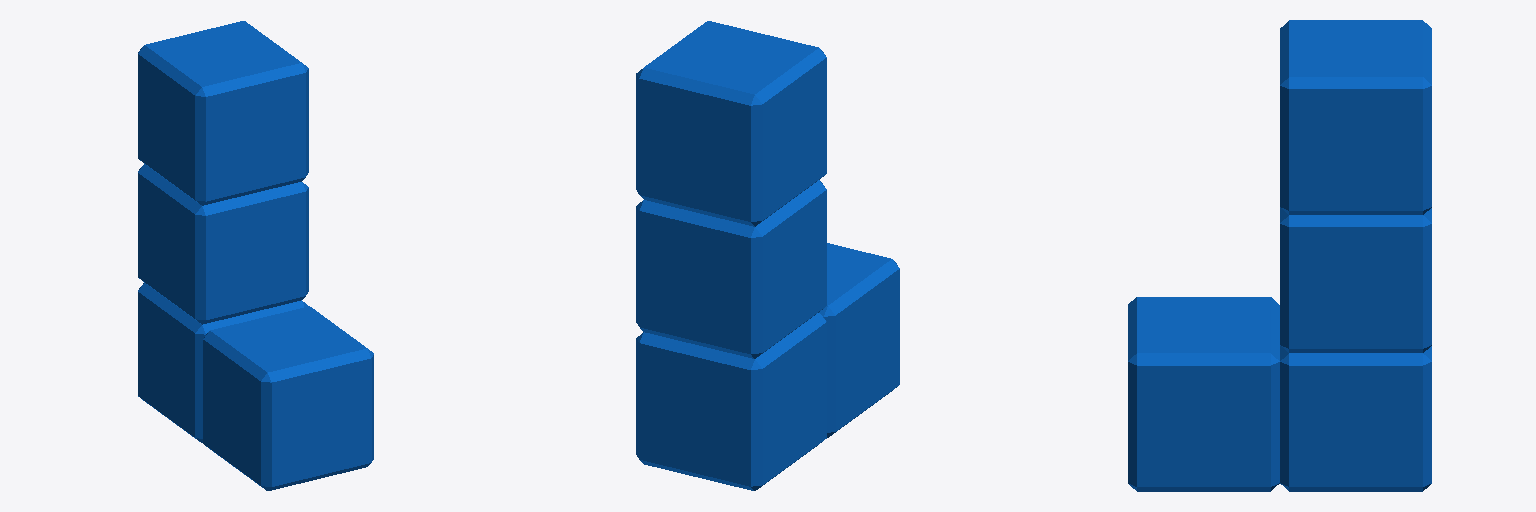
--- What the picture shows (computed from the rendered views, not written in the file) ---
Views: 3 orthographic renders of the robot side by side, from view 1: azimuth 30°, elevation 25°; view 2: azimuth 150°, elevation 25°; view 3: azimuth 270°, elevation 25°.
Robot: obj_2 — 1 links, 0 joints (none); root link obj_2_link; default pose: every joint at zero.
Visible links, largest first — view 1: obj_2_link; view 2: obj_2_link; view 3: obj_2_link.
Boxes of the visible links, x1,y1,x2,y2 form: obj_2_link: [138, 21, 373, 490]; obj_2_link: [636, 21, 899, 490]; obj_2_link: [1128, 20, 1431, 491].
Size in the robot's own frame: 0.125 by 0.25 by 0.375 metres.
Meshes: 1 distinct files referenced, 1 mesh visuals loaded (1 OBJ).

robot.urdf — obj_2:
<robot name="obj_2" version="1.0">
  <link name="obj_2_link">
    <collision name="obj_2-collision.001">
      <origin rpy="-3.14159 0.00000 1.57080" xyz="-0.47734 0.45206 0.06416"/>
      <geometry>
        <mesh filename="../meshes/obj/obj_2-collision.001.obj" scale="1.00000 1.00000 1.00000"/>
      </geometry>
    </collision>
    <collision name="obj_2-collision.002">
      <origin rpy="-1.57080 -0.00000 2.35619" xyz="-0.53609 0.39331 0.06416"/>
      <geometry>
        <mesh filename="../meshes/obj/obj_2-collision.002.obj" scale="1.00000 1.00000 1.00000"/>
      </geometry>
    </collision>
    <collision name="obj_2-collision.003">
      <origin rpy="2.35619 -1.57080 0.00000" xyz="-0.41859 0.39331 0.06416"/>
      <geometry>
        <mesh filename="../meshes/obj/obj_2-collision.003.obj" scale="1.00000 1.00000 1.00000"/>
      </geometry>
    </collision>
    <collision name="obj_2-collision.004">
      <origin rpy="1.57080 -0.00000 2.35619" xyz="-0.41859 0.51081 0.06416"/>
      <geometry>
        <mesh filename="../meshes/obj/obj_2-collision.004.obj" scale="1.00000 1.00000 1.00000"/>
      </geometry>
    </collision>
    <collision name="obj_2-collision.005">
      <origin rpy="-2.35619 1.57080 0.00000" xyz="-0.53609 0.51081 0.06416"/>
      <geometry>
        <mesh filename="../meshes/obj/obj_2-collision.005.obj" scale="1.00000 1.00000 1.00000"/>
      </geometry>
    </collision>
    <collision name="obj_2-collision.006">
      <origin rpy="-0.78540 -0.00000 1.57080" xyz="-0.53609 0.45206 0.12291"/>
      <geometry>
        <mesh filename="../meshes/obj/obj_2-collision.006.obj" scale="1.00000 1.00000 1.00000"/>
      </geometry>
    </collision>
    <collision name="obj_2-collision.007">
      <origin rpy="2.35619 -0.00000 -1.57080" xyz="-0.53609 0.45206 0.00541"/>
      <geometry>
        <mesh filename="../meshes/obj/obj_2-collision.007.obj" scale="1.00000 1.00000 1.00000"/>
      </geometry>
    </collision>
    <collision name="obj_2-collision.008">
      <origin rpy="0.00000 -0.78540 1.57080" xyz="-0.47734 0.39331 0.12291"/>
      <geometry>
        <mesh filename="../meshes/obj/obj_2-collision.008.obj" scale="1.00000 1.00000 1.00000"/>
      </geometry>
    </collision>
    <collision name="obj_2-collision.009">
      <origin rpy="3.14159 -0.78540 -1.57080" xyz="-0.47734 0.39331 0.00541"/>
      <geometry>
        <mesh filename="../meshes/obj/obj_2-collision.009.obj" scale="1.00000 1.00000 1.00000"/>
      </geometry>
    </collision>
    <collision name="obj_2-collision.010">
      <origin rpy="-0.78540 -0.00000 -1.57080" xyz="-0.41859 0.45206 0.12291"/>
      <geometry>
        <mesh filename="../meshes/obj/obj_2-collision.010.obj" scale="1.00000 1.00000 1.00000"/>
      </geometry>
    </collision>
    <collision name="obj_2-collision.011">
      <origin rpy="-2.35619 0.00000 -1.57080" xyz="-0.41859 0.45206 0.00541"/>
      <geometry>
        <mesh filename="../meshes/obj/obj_2-collision.011.obj" scale="1.00000 1.00000 1.00000"/>
      </geometry>
    </collision>
    <collision name="obj_2-collision.012">
      <origin rpy="0.00000 0.78540 1.57080" xyz="-0.47734 0.51081 0.12291"/>
      <geometry>
        <mesh filename="../meshes/obj/obj_2-collision.012.obj" scale="1.00000 1.00000 1.00000"/>
      </geometry>
    </collision>
    <collision name="obj_2-collision.013">
      <origin rpy="3.14159 0.78540 -1.57080" xyz="-0.47734 0.51081 0.00541"/>
      <geometry>
        <mesh filename="../meshes/obj/obj_2-collision.013.obj" scale="1.00000 1.00000 1.00000"/>
      </geometry>
    </collision>
    <collision name="obj_2-collision.014">
      <origin rpy="-1.57080 -0.00000 3.14159" xyz="-0.47734 0.38956 0.06416"/>
      <geometry>
        <mesh filename="../meshes/obj/obj_2-collision.014.obj" scale="1.00000 1.00000 1.00000"/>
      </geometry>
    </collision>
    <collision name="obj_2-collision.015">
      <origin rpy="3.14159 -1.57080 0.00000" xyz="-0.41484 0.45206 0.06416"/>
      <geometry>
        <mesh filename="../meshes/obj/obj_2-collision.015.obj" scale="1.00000 1.00000 1.00000"/>
      </geometry>
    </collision>
    <collision name="obj_2-collision.016">
      <origin rpy="-3.14159 1.57080 0.00000" xyz="-0.53984 0.45206 0.06416"/>
      <geometry>
        <mesh filename="../meshes/obj/obj_2-collision.016.obj" scale="1.00000 1.00000 1.00000"/>
      </geometry>
    </collision>
    <collision name="obj_2-collision.017">
      <origin rpy="-0.78540 -0.00000 1.57080" xyz="-0.53609 0.57706 0.12291"/>
      <geometry>
        <mesh filename="../meshes/obj/obj_2-collision.017.obj" scale="1.00000 1.00000 1.00000"/>
      </geometry>
    </collision>
    <collision name="obj_2-collision.018">
      <origin rpy="-3.14159 1.57080 0.00000" xyz="-0.53984 0.57706 0.06416"/>
      <geometry>
        <mesh filename="../meshes/obj/obj_2-collision.018.obj" scale="1.00000 1.00000 1.00000"/>
      </geometry>
    </collision>
    <collision name="obj_2-collision.019">
      <origin rpy="-1.57080 -0.00000 2.35619" xyz="-0.53609 0.51831 0.06416"/>
      <geometry>
        <mesh filename="../meshes/obj/obj_2-collision.019.obj" scale="1.00000 1.00000 1.00000"/>
      </geometry>
    </collision>
    <collision name="obj_2-collision.020">
      <origin rpy="2.35619 -0.00000 -1.57080" xyz="-0.53609 0.57706 0.00541"/>
      <geometry>
        <mesh filename="../meshes/obj/obj_2-collision.020.obj" scale="1.00000 1.00000 1.00000"/>
      </geometry>
    </collision>
    <collision name="obj_2-collision.021">
      <origin rpy="-2.35619 1.57080 0.00000" xyz="-0.53609 0.63581 0.06416"/>
      <geometry>
        <mesh filename="../meshes/obj/obj_2-collision.021.obj" scale="1.00000 1.00000 1.00000"/>
      </geometry>
    </collision>
    <collision name="obj_2-collision.022">
      <origin rpy="0.00000 0.78540 1.57080" xyz="-0.47734 0.63581 0.12291"/>
      <geometry>
        <mesh filename="../meshes/obj/obj_2-collision.022.obj" scale="1.00000 1.00000 1.00000"/>
      </geometry>
    </collision>
    <collision name="obj_2-collision.023">
      <origin rpy="1.57080 -0.00000 3.14159" xyz="-0.47734 0.63956 0.06416"/>
      <geometry>
        <mesh filename="../meshes/obj/obj_2-collision.023.obj" scale="1.00000 1.00000 1.00000"/>
      </geometry>
    </collision>
    <collision name="obj_2-collision.024">
      <origin rpy="3.14159 0.78540 -1.57080" xyz="-0.47734 0.63581 0.00541"/>
      <geometry>
        <mesh filename="../meshes/obj/obj_2-collision.024.obj" scale="1.00000 1.00000 1.00000"/>
      </geometry>
    </collision>
    <collision name="obj_2-collision.025">
      <origin rpy="1.57080 -0.00000 2.35619" xyz="-0.41859 0.63581 0.06416"/>
      <geometry>
        <mesh filename="../meshes/obj/obj_2-collision.025.obj" scale="1.00000 1.00000 1.00000"/>
      </geometry>
    </collision>
    <collision name="obj_2-collision.026">
      <origin rpy="0.78540 0.00000 1.57080" xyz="-0.41859 0.57706 0.12291"/>
      <geometry>
        <mesh filename="../meshes/obj/obj_2-collision.026.obj" scale="1.00000 1.00000 1.00000"/>
      </geometry>
    </collision>
    <collision name="obj_2-collision.027">
      <origin rpy="3.14159 -1.57080 0.00000" xyz="-0.41484 0.57706 0.06416"/>
      <geometry>
        <mesh filename="../meshes/obj/obj_2-collision.027.obj" scale="1.00000 1.00000 1.00000"/>
      </geometry>
    </collision>
    <collision name="obj_2-collision.028">
      <origin rpy="-2.35619 0.00000 -1.57080" xyz="-0.41859 0.57706 0.00541"/>
      <geometry>
        <mesh filename="../meshes/obj/obj_2-collision.028.obj" scale="1.00000 1.00000 1.00000"/>
      </geometry>
    </collision>
    <collision name="obj_2-collision.029">
      <origin rpy="2.35619 -1.57080 0.00000" xyz="-0.41859 0.51831 0.06416"/>
      <geometry>
        <mesh filename="../meshes/obj/obj_2-collision.029.obj" scale="1.00000 1.00000 1.00000"/>
      </geometry>
    </collision>
    <collision name="obj_2-collision.030">
      <origin rpy="3.14159 0.00000 -1.57080" xyz="-0.47734 0.57706 0.00166"/>
      <geometry>
        <mesh filename="../meshes/obj/obj_2-collision.030.obj" scale="1.00000 1.00000 1.00000"/>
      </geometry>
    </collision>
    <collision name="obj_2-collision.031">
      <origin rpy="3.14159 -0.78540 -1.57080" xyz="-0.47734 0.51831 0.00541"/>
      <geometry>
        <mesh filename="../meshes/obj/obj_2-collision.031.obj" scale="1.00000 1.00000 1.00000"/>
      </geometry>
    </collision>
    <collision name="obj_2-collision.032">
      <origin rpy="0.00000 -0.78540 1.57080" xyz="-0.47734 0.51831 0.12291"/>
      <geometry>
        <mesh filename="../meshes/obj/obj_2-collision.032.obj" scale="1.00000 1.00000 1.00000"/>
      </geometry>
    </collision>
    <collision name="obj_2-collision.033">
      <origin rpy="-3.14159 1.57080 0.00000" xyz="-0.53984 0.57706 0.18916"/>
      <geometry>
        <mesh filename="../meshes/obj/obj_2-collision.033.obj" scale="1.00000 1.00000 1.00000"/>
      </geometry>
    </collision>
    <collision name="obj_2-collision.034">
      <origin rpy="-1.57080 -0.00000 3.14159" xyz="-0.47734 0.51456 0.18916"/>
      <geometry>
        <mesh filename="../meshes/obj/obj_2-collision.034.obj" scale="1.00000 1.00000 1.00000"/>
      </geometry>
    </collision>
    <collision name="obj_2-collision.035">
      <origin rpy="3.14159 -1.57080 0.00000" xyz="-0.41484 0.57706 0.18916"/>
      <geometry>
        <mesh filename="../meshes/obj/obj_2-collision.035.obj" scale="1.00000 1.00000 1.00000"/>
      </geometry>
    </collision>
    <collision name="obj_2-collision.036">
      <origin rpy="1.57080 -0.00000 3.14159" xyz="-0.47734 0.63956 0.18916"/>
      <geometry>
        <mesh filename="../meshes/obj/obj_2-collision.036.obj" scale="1.00000 1.00000 1.00000"/>
      </geometry>
    </collision>
    <collision name="obj_2-collision.037">
      <origin rpy="-0.78540 -1.57080 0.00000" xyz="-0.53609 0.63581 0.18916"/>
      <geometry>
        <mesh filename="../meshes/obj/obj_2-collision.037.obj" scale="1.00000 1.00000 1.00000"/>
      </geometry>
    </collision>
    <collision name="obj_2-collision.038">
      <origin rpy="-0.78540 -0.00000 1.57080" xyz="-0.53609 0.57706 0.24791"/>
      <geometry>
        <mesh filename="../meshes/obj/obj_2-collision.038.obj" scale="1.00000 1.00000 1.00000"/>
      </geometry>
    </collision>
    <collision name="obj_2-collision.039">
      <origin rpy="0.00000 -0.78540 1.57080" xyz="-0.47734 0.51831 0.24791"/>
      <geometry>
        <mesh filename="../meshes/obj/obj_2-collision.039.obj" scale="1.00000 1.00000 1.00000"/>
      </geometry>
    </collision>
    <collision name="obj_2-collision.040">
      <origin rpy="0.78540 0.00000 1.57080" xyz="-0.41859 0.57706 0.24791"/>
      <geometry>
        <mesh filename="../meshes/obj/obj_2-collision.040.obj" scale="1.00000 1.00000 1.00000"/>
      </geometry>
    </collision>
    <collision name="obj_2-collision.041">
      <origin rpy="0.00000 0.78540 1.57080" xyz="-0.47734 0.63581 0.24791"/>
      <geometry>
        <mesh filename="../meshes/obj/obj_2-collision.041.obj" scale="1.00000 1.00000 1.00000"/>
      </geometry>
    </collision>
    <collision name="obj_2-collision.042">
      <origin rpy="-1.57080 -0.00000 2.35619" xyz="-0.53609 0.51831 0.18916"/>
      <geometry>
        <mesh filename="../meshes/obj/obj_2-collision.042.obj" scale="1.00000 1.00000 1.00000"/>
      </geometry>
    </collision>
    <collision name="obj_2-collision.043">
      <origin rpy="2.35619 -1.57080 0.00000" xyz="-0.41859 0.51831 0.18916"/>
      <geometry>
        <mesh filename="../meshes/obj/obj_2-collision.043.obj" scale="1.00000 1.00000 1.00000"/>
      </geometry>
    </collision>
    <collision name="obj_2-collision.044">
      <origin rpy="1.57080 -0.00000 2.35619" xyz="-0.41859 0.63581 0.18916"/>
      <geometry>
        <mesh filename="../meshes/obj/obj_2-collision.044.obj" scale="1.00000 1.00000 1.00000"/>
      </geometry>
    </collision>
    <collision name="obj_2-collision.045">
      <origin rpy="-2.35619 0.00000 -1.57080" xyz="-0.41859 0.57706 0.13041"/>
      <geometry>
        <mesh filename="../meshes/obj/obj_2-collision.045.obj" scale="1.00000 1.00000 1.00000"/>
      </geometry>
    </collision>
    <collision name="obj_2-collision.046">
      <origin rpy="3.14159 0.78540 -1.57080" xyz="-0.47734 0.63581 0.13041"/>
      <geometry>
        <mesh filename="../meshes/obj/obj_2-collision.046.obj" scale="1.00000 1.00000 1.00000"/>
      </geometry>
    </collision>
    <collision name="obj_2-collision.047">
      <origin rpy="2.35619 -0.00000 -1.57080" xyz="-0.53609 0.57706 0.13041"/>
      <geometry>
        <mesh filename="../meshes/obj/obj_2-collision.047.obj" scale="1.00000 1.00000 1.00000"/>
      </geometry>
    </collision>
    <collision name="obj_2-collision.048">
      <origin rpy="3.14159 -0.78540 -1.57080" xyz="-0.47734 0.51831 0.13041"/>
      <geometry>
        <mesh filename="../meshes/obj/obj_2-collision.048.obj" scale="1.00000 1.00000 1.00000"/>
      </geometry>
    </collision>
    <collision name="obj_2-collision.049">
      <origin rpy="-1.57080 -0.00000 3.14159" xyz="-0.47734 0.51456 0.31416"/>
      <geometry>
        <mesh filename="../meshes/obj/obj_2-collision.049.obj" scale="1.00000 1.00000 1.00000"/>
      </geometry>
    </collision>
    <collision name="obj_2-collision.050">
      <origin rpy="3.14159 -1.57080 0.00000" xyz="-0.41484 0.57706 0.31416"/>
      <geometry>
        <mesh filename="../meshes/obj/obj_2-collision.050.obj" scale="1.00000 1.00000 1.00000"/>
      </geometry>
    </collision>
    <collision name="obj_2-collision.051">
      <origin rpy="1.57080 -0.00000 3.14159" xyz="-0.47734 0.63956 0.31416"/>
      <geometry>
        <mesh filename="../meshes/obj/obj_2-collision.051.obj" scale="1.00000 1.00000 1.00000"/>
      </geometry>
    </collision>
    <collision name="obj_2-collision.052">
      <origin rpy="-3.14159 1.57080 0.00000" xyz="-0.53984 0.57706 0.31416"/>
      <geometry>
        <mesh filename="../meshes/obj/obj_2-collision.052.obj" scale="1.00000 1.00000 1.00000"/>
      </geometry>
    </collision>
    <collision name="obj_2-collision.053">
      <origin rpy="0.00000 0.00000 1.57080" xyz="-0.47734 0.57706 0.37666"/>
      <geometry>
        <mesh filename="../meshes/obj/obj_2-collision.053.obj" scale="1.00000 1.00000 1.00000"/>
      </geometry>
    </collision>
    <collision name="obj_2-collision.054">
      <origin rpy="-0.78540 -0.00000 1.57080" xyz="-0.53609 0.57706 0.37291"/>
      <geometry>
        <mesh filename="../meshes/obj/obj_2-collision.054.obj" scale="1.00000 1.00000 1.00000"/>
      </geometry>
    </collision>
    <collision name="obj_2-collision.055">
      <origin rpy="0.00000 -0.78540 1.57080" xyz="-0.47734 0.51831 0.37291"/>
      <geometry>
        <mesh filename="../meshes/obj/obj_2-collision.055.obj" scale="1.00000 1.00000 1.00000"/>
      </geometry>
    </collision>
    <collision name="obj_2-collision.056">
      <origin rpy="0.78540 0.00000 1.57080" xyz="-0.41859 0.57706 0.37291"/>
      <geometry>
        <mesh filename="../meshes/obj/obj_2-collision.056.obj" scale="1.00000 1.00000 1.00000"/>
      </geometry>
    </collision>
    <collision name="obj_2-collision.057">
      <origin rpy="0.78540 -0.00000 3.14159" xyz="-0.47734 0.63581 0.37291"/>
      <geometry>
        <mesh filename="../meshes/obj/obj_2-collision.057.obj" scale="1.00000 1.00000 1.00000"/>
      </geometry>
    </collision>
    <collision name="obj_2-collision.058">
      <origin rpy="-1.57080 0.00000 -0.78540" xyz="-0.41859 0.63581 0.31416"/>
      <geometry>
        <mesh filename="../meshes/obj/obj_2-collision.058.obj" scale="1.00000 1.00000 1.00000"/>
      </geometry>
    </collision>
    <collision name="obj_2-collision.059">
      <origin rpy="-2.35619 1.57080 0.00000" xyz="-0.53609 0.63581 0.31416"/>
      <geometry>
        <mesh filename="../meshes/obj/obj_2-collision.059.obj" scale="1.00000 1.00000 1.00000"/>
      </geometry>
    </collision>
    <collision name="obj_2-collision.060">
      <origin rpy="2.35619 -1.57080 0.00000" xyz="-0.41859 0.51831 0.31416"/>
      <geometry>
        <mesh filename="../meshes/obj/obj_2-collision.060.obj" scale="1.00000 1.00000 1.00000"/>
      </geometry>
    </collision>
    <collision name="obj_2-collision.061">
      <origin rpy="-1.57080 -0.00000 2.35619" xyz="-0.53609 0.51831 0.31416"/>
      <geometry>
        <mesh filename="../meshes/obj/obj_2-collision.061.obj" scale="1.00000 1.00000 1.00000"/>
      </geometry>
    </collision>
    <collision name="obj_2-collision.062">
      <origin rpy="2.35619 -0.00000 -1.57080" xyz="-0.53609 0.57706 0.25541"/>
      <geometry>
        <mesh filename="../meshes/obj/obj_2-collision.062.obj" scale="1.00000 1.00000 1.00000"/>
      </geometry>
    </collision>
    <collision name="obj_2-collision.063">
      <origin rpy="3.14159 -0.78540 -1.57080" xyz="-0.47734 0.51831 0.25541"/>
      <geometry>
        <mesh filename="../meshes/obj/obj_2-collision.063.obj" scale="1.00000 1.00000 1.00000"/>
      </geometry>
    </collision>
    <collision name="obj_2-collision.064">
      <origin rpy="-2.35619 0.00000 -1.57080" xyz="-0.41859 0.57706 0.25541"/>
      <geometry>
        <mesh filename="../meshes/obj/obj_2-collision.064.obj" scale="1.00000 1.00000 1.00000"/>
      </geometry>
    </collision>
    <collision name="obj_2-collision.065">
      <origin rpy="3.14159 0.78540 -1.57080" xyz="-0.47734 0.63581 0.25541"/>
      <geometry>
        <mesh filename="../meshes/obj/obj_2-collision.065.obj" scale="1.00000 1.00000 1.00000"/>
      </geometry>
    </collision>
    <collision name="obj_2-collision.066">
      <origin rpy="-3.14159 1.57080 0.00000" xyz="-0.47734 0.54432 0.15940"/>
      <geometry>
        <mesh filename="../meshes/obj/obj_2-collision.066.obj" scale="0.00500 0.00500 0.00500"/>
      </geometry>
    </collision>
    <collision name="obj_2-collision.067">
      <origin rpy="-3.14159 1.57080 0.00000" xyz="-0.47734 0.54432 0.15940"/>
      <geometry>
        <mesh filename="../meshes/obj/obj_2-collision.067.obj" scale="0.00500 0.00500 0.00500"/>
      </geometry>
    </collision>
    <collision name="obj_2-collision.068">
      <origin rpy="-3.14159 1.57080 0.00000" xyz="-0.47734 0.54432 0.15940"/>
      <geometry>
        <mesh filename="../meshes/obj/obj_2-collision.068.obj" scale="0.00500 0.00500 0.00500"/>
      </geometry>
    </collision>
    <collision name="obj_2-collision.069">
      <origin rpy="-3.14159 1.57080 0.00000" xyz="-0.47734 0.54432 0.15940"/>
      <geometry>
        <mesh filename="../meshes/obj/obj_2-collision.069.obj" scale="0.00500 0.00500 0.00500"/>
      </geometry>
    </collision>
    <collision name="obj_2-collision.070">
      <origin rpy="-3.14159 1.57080 0.00000" xyz="-0.47734 0.54432 0.15940"/>
      <geometry>
        <mesh filename="../meshes/obj/obj_2-collision.070.obj" scale="0.00500 0.00500 0.00500"/>
      </geometry>
    </collision>
    <collision name="obj_2-collision.071">
      <origin rpy="-3.14159 1.57080 0.00000" xyz="-0.47734 0.54432 0.15940"/>
      <geometry>
        <mesh filename="../meshes/obj/obj_2-collision.071.obj" scale="0.00500 0.00500 0.00500"/>
      </geometry>
    </collision>
    <collision name="obj_2-collision.072">
      <origin rpy="-3.14159 1.57080 0.00000" xyz="-0.47734 0.54432 0.15940"/>
      <geometry>
        <mesh filename="../meshes/obj/obj_2-collision.072.obj" scale="0.00500 0.00500 0.00500"/>
      </geometry>
    </collision>
    <collision name="obj_2-collision.073">
      <origin rpy="-3.14159 1.57080 0.00000" xyz="-0.47734 0.54432 0.15940"/>
      <geometry>
        <mesh filename="../meshes/obj/obj_2-collision.073.obj" scale="0.00500 0.00500 0.00500"/>
      </geometry>
    </collision>
    <collision name="obj_2-collision.074">
      <origin rpy="-3.14159 1.57080 0.00000" xyz="-0.47734 0.54432 0.15940"/>
      <geometry>
        <mesh filename="../meshes/obj/obj_2-collision.074.obj" scale="0.00500 0.00500 0.00500"/>
      </geometry>
    </collision>
    <collision name="obj_2-collision.075">
      <origin rpy="-3.14159 1.57080 0.00000" xyz="-0.47734 0.54432 0.15940"/>
      <geometry>
        <mesh filename="../meshes/obj/obj_2-collision.075.obj" scale="0.00500 0.00500 0.00500"/>
      </geometry>
    </collision>
    <collision name="obj_2-collision.076">
      <origin rpy="-3.14159 1.57080 0.00000" xyz="-0.47734 0.54432 0.15940"/>
      <geometry>
        <mesh filename="../meshes/obj/obj_2-collision.076.obj" scale="0.00500 0.00500 0.00500"/>
      </geometry>
    </collision>
    <collision name="obj_2-collision.077">
      <origin rpy="-3.14159 1.57080 0.00000" xyz="-0.47734 0.54432 0.15940"/>
      <geometry>
        <mesh filename="../meshes/obj/obj_2-collision.077.obj" scale="0.00500 0.00500 0.00500"/>
      </geometry>
    </collision>
    <collision name="obj_2-collision.078">
      <origin rpy="-3.14159 1.57080 0.00000" xyz="-0.47734 0.54432 0.15940"/>
      <geometry>
        <mesh filename="../meshes/obj/obj_2-collision.078.obj" scale="0.00500 0.00500 0.00500"/>
      </geometry>
    </collision>
    <collision name="obj_2-collision.079">
      <origin rpy="-3.14159 1.57080 0.00000" xyz="-0.47734 0.54432 0.15940"/>
      <geometry>
        <mesh filename="../meshes/obj/obj_2-collision.079.obj" scale="0.00500 0.00500 0.00500"/>
      </geometry>
    </collision>
    <collision name="obj_2-collision.080">
      <origin rpy="-3.14159 1.57080 0.00000" xyz="-0.47734 0.54432 0.15940"/>
      <geometry>
        <mesh filename="../meshes/obj/obj_2-collision.080.obj" scale="0.00500 0.00500 0.00500"/>
      </geometry>
    </collision>
    <collision name="obj_2-collision.081">
      <origin rpy="-3.14159 1.57080 0.00000" xyz="-0.47734 0.54432 0.15940"/>
      <geometry>
        <mesh filename="../meshes/obj/obj_2-collision.081.obj" scale="0.00500 0.00500 0.00500"/>
      </geometry>
    </collision>
    <collision name="obj_2-collision.082">
      <origin rpy="-3.14159 1.57080 0.00000" xyz="-0.47734 0.54432 0.15940"/>
      <geometry>
        <mesh filename="../meshes/obj/obj_2-collision.082.obj" scale="0.00500 0.00500 0.00500"/>
      </geometry>
    </collision>
    <collision name="obj_2-collision.083">
      <origin rpy="-3.14159 1.57080 0.00000" xyz="-0.47734 0.54432 0.15940"/>
      <geometry>
        <mesh filename="../meshes/obj/obj_2-collision.083.obj" scale="0.00500 0.00500 0.00500"/>
      </geometry>
    </collision>
    <collision name="obj_2-collision.084">
      <origin rpy="-3.14159 1.57080 0.00000" xyz="-0.47734 0.54432 0.15940"/>
      <geometry>
        <mesh filename="../meshes/obj/obj_2-collision.084.obj" scale="0.00500 0.00500 0.00500"/>
      </geometry>
    </collision>
    <collision name="obj_2-collision.085">
      <origin rpy="-3.14159 1.57080 0.00000" xyz="-0.47734 0.54432 0.15940"/>
      <geometry>
        <mesh filename="../meshes/obj/obj_2-collision.085.obj" scale="0.00500 0.00500 0.00500"/>
      </geometry>
    </collision>
    <collision name="obj_2-collision.086">
      <origin rpy="-3.14159 1.57080 0.00000" xyz="-0.47734 0.54432 0.15940"/>
      <geometry>
        <mesh filename="../meshes/obj/obj_2-collision.086.obj" scale="0.00500 0.00500 0.00500"/>
      </geometry>
    </collision>
    <collision name="obj_2-collision.087">
      <origin rpy="-3.14159 1.57080 0.00000" xyz="-0.47734 0.54432 0.15940"/>
      <geometry>
        <mesh filename="../meshes/obj/obj_2-collision.087.obj" scale="0.00500 0.00500 0.00500"/>
      </geometry>
    </collision>
    <collision name="obj_2-collision.088">
      <origin rpy="-3.14159 1.57080 0.00000" xyz="-0.47734 0.54432 0.15940"/>
      <geometry>
        <mesh filename="../meshes/obj/obj_2-collision.088.obj" scale="0.00500 0.00500 0.00500"/>
      </geometry>
    </collision>
    <collision name="obj_2-collision.089">
      <origin rpy="-3.14159 1.57080 0.00000" xyz="-0.47734 0.54432 0.15940"/>
      <geometry>
        <mesh filename="../meshes/obj/obj_2-collision.089.obj" scale="0.00500 0.00500 0.00500"/>
      </geometry>
    </collision>
    <collision name="obj_2-collision.090">
      <origin rpy="-3.14159 1.57080 0.00000" xyz="-0.53484 0.50956 0.00666"/>
      <geometry>
        <mesh filename="../meshes/obj/obj_2-collision.090.obj" scale="0.00500 0.00500 0.00500"/>
      </geometry>
    </collision>
    <collision name="obj_2-collision.091">
      <origin rpy="-3.14159 1.57080 0.00000" xyz="-0.53484 0.39456 0.00666"/>
      <geometry>
        <mesh filename="../meshes/obj/obj_2-collision.091.obj" scale="0.00500 0.00500 0.00500"/>
      </geometry>
    </collision>
    <collision name="obj_2-collision.092">
      <origin rpy="-3.14159 1.57080 0.00000" xyz="-0.47734 0.54432 0.15940"/>
      <geometry>
        <mesh filename="../meshes/obj/obj_2-collision.092.obj" scale="0.00500 0.00500 0.00500"/>
      </geometry>
    </collision>
    <collision name="obj_2-collision.093">
      <origin rpy="-3.14159 1.57080 0.00000" xyz="-0.47734 0.54432 0.15940"/>
      <geometry>
        <mesh filename="../meshes/obj/obj_2-collision.093.obj" scale="0.00500 0.00500 0.00500"/>
      </geometry>
    </collision>
    <collision name="obj_2-collision.094">
      <origin rpy="-3.14159 1.57080 0.00000" xyz="-0.47734 0.54432 0.15940"/>
      <geometry>
        <mesh filename="../meshes/obj/obj_2-collision.094.obj" scale="0.00500 0.00500 0.00500"/>
      </geometry>
    </collision>
    <collision name="obj_2-collision.095">
      <origin rpy="-3.14159 1.57080 0.00000" xyz="-0.47734 0.54432 0.15940"/>
      <geometry>
        <mesh filename="../meshes/obj/obj_2-collision.095.obj" scale="0.00500 0.00500 0.00500"/>
      </geometry>
    </collision>
    <collision name="obj_2-collision.096">
      <origin rpy="-3.14159 1.57080 0.00000" xyz="-0.47734 0.54432 0.15940"/>
      <geometry>
        <mesh filename="../meshes/obj/obj_2-collision.096.obj" scale="0.00500 0.00500 0.00500"/>
      </geometry>
    </collision>
    <collision name="obj_2-collision.097">
      <origin rpy="-3.14159 1.57080 0.00000" xyz="-0.47734 0.54432 0.15940"/>
      <geometry>
        <mesh filename="../meshes/obj/obj_2-collision.097.obj" scale="0.00500 0.00500 0.00500"/>
      </geometry>
    </collision>
    <inertial>
      <inertia ixx="0.00080" ixy="-0.00000" ixz="-0.00000" iyy="0.00066" iyz="-0.00014" izz="0.00027"/>
      <origin rpy="0.00000 0.00000 0.00000" xyz="-0.47734 0.54581 0.15791"/>
      <mass value="0.05000"/>
    </inertial>
    <visual name="obj_2">
      <material name="turnarraw_skyblue"/>
      <origin rpy="-3.14159 1.57080 0.00000" xyz="-0.47734 0.54432 0.15940"/>
      <geometry>
        <mesh filename="../meshes/obj/bt_cube3x3_bricks.001.obj" scale="0.00500 0.00500 0.00500"/>
      </geometry>
    </visual>
  </link>
  <material name="turnarraw_skyblue">
    <color rgba="0.09020 0.45490 0.81176 1.00000"/>
  </material>
</robot>
